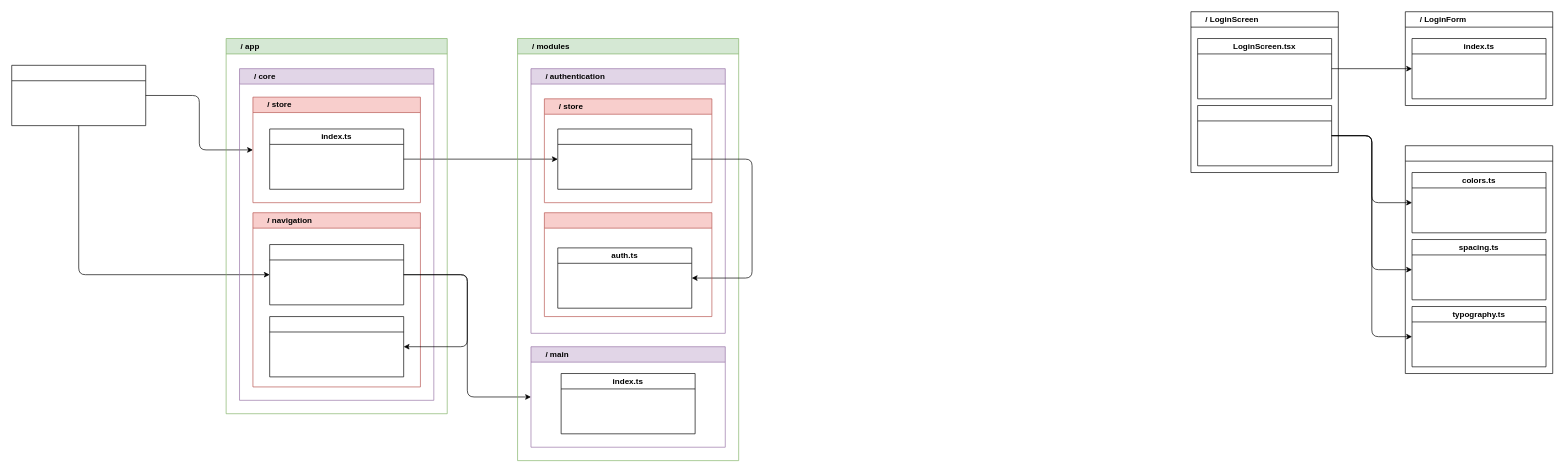
Some shapes in this 1564 by 472 pixel diagram are drawn without their labels. Here are the shapes that lost their labels. From the top down, the centre of each, then its label:
the point at 78,95: App.tsx
the point at 1264,135: LoginScreen.styles.ts
the point at 624,158: authSlice.ts
the point at 336,274: AppNavigator.tsx
the point at 628,264: / types
the point at 1479,259: / styles
the point at 336,346: AuthNavigator.tsx
